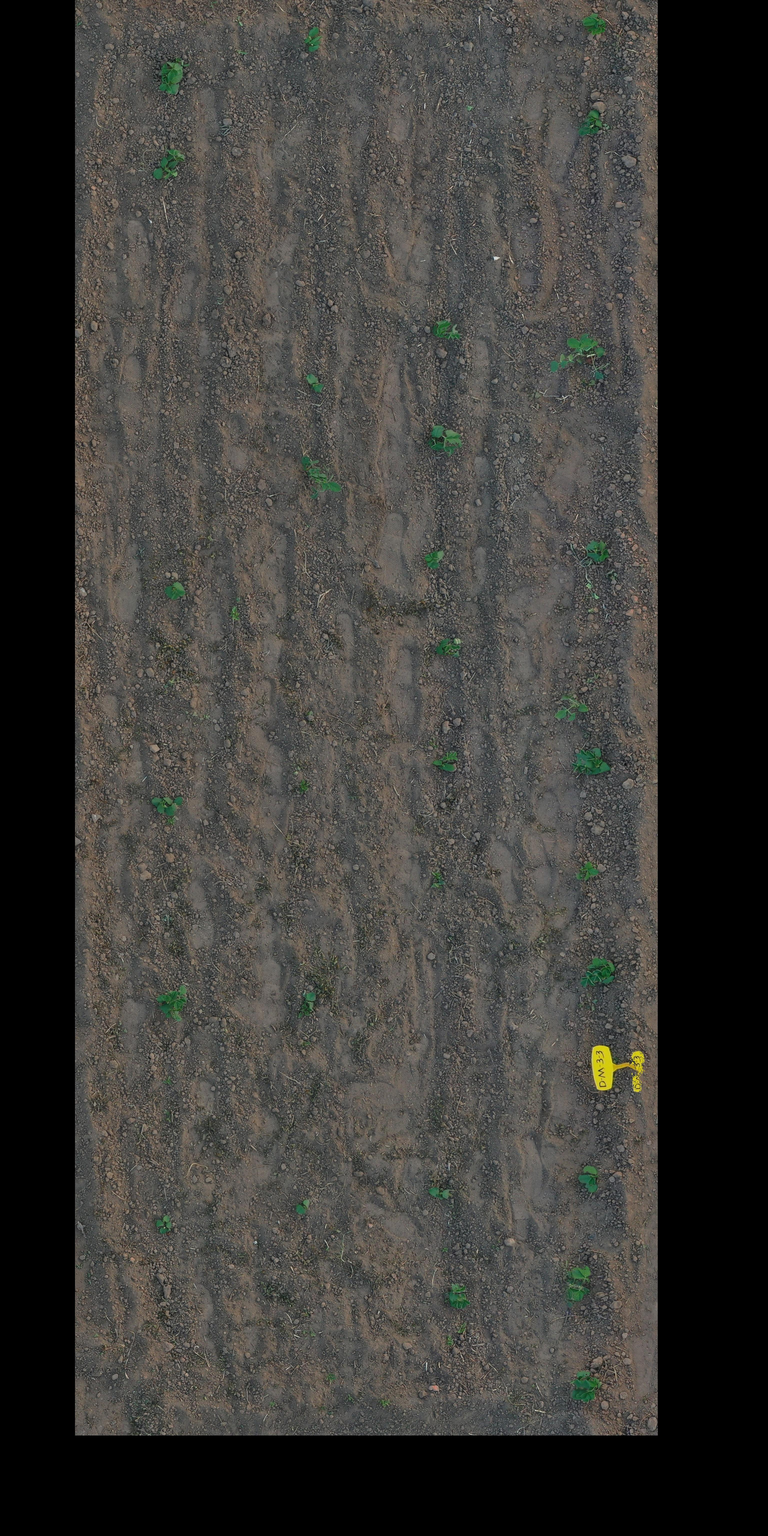s: (550, 332, 599, 373), (306, 463, 342, 499), (554, 694, 589, 722), (564, 1266, 590, 1301), (571, 1264, 592, 1301), (576, 1377, 601, 1403), (586, 347, 605, 380), (153, 156, 179, 180), (578, 1165, 599, 1193), (167, 984, 189, 1010), (156, 990, 178, 1014), (575, 748, 601, 768), (441, 429, 463, 452), (575, 861, 600, 881), (428, 425, 446, 452), (162, 61, 183, 84), (434, 638, 460, 656), (570, 1378, 591, 1400), (596, 957, 616, 980), (164, 581, 186, 601), (448, 1291, 471, 1310), (586, 758, 610, 776), (424, 550, 444, 570), (591, 968, 615, 984), (574, 122, 599, 137), (433, 319, 452, 338), (584, 108, 602, 128), (306, 373, 324, 393), (159, 78, 180, 95), (431, 759, 457, 772), (582, 13, 604, 28), (301, 455, 320, 472), (586, 540, 600, 563), (569, 1370, 592, 1384), (428, 1186, 450, 1200), (303, 26, 320, 44), (597, 540, 610, 563), (448, 324, 464, 342), (150, 796, 174, 808), (580, 970, 596, 988), (166, 148, 186, 162), (157, 801, 175, 816), (165, 1008, 184, 1022), (303, 992, 316, 1012), (307, 35, 322, 52), (451, 637, 462, 658), (296, 1199, 310, 1215), (160, 63, 170, 84), (442, 750, 458, 763), (171, 796, 184, 812), (441, 446, 458, 458), (570, 762, 587, 774), (156, 1214, 170, 1228), (586, 26, 605, 36), (159, 1220, 172, 1234), (450, 1283, 466, 1294), (299, 779, 310, 794), (600, 18, 607, 28), (442, 332, 450, 340)
